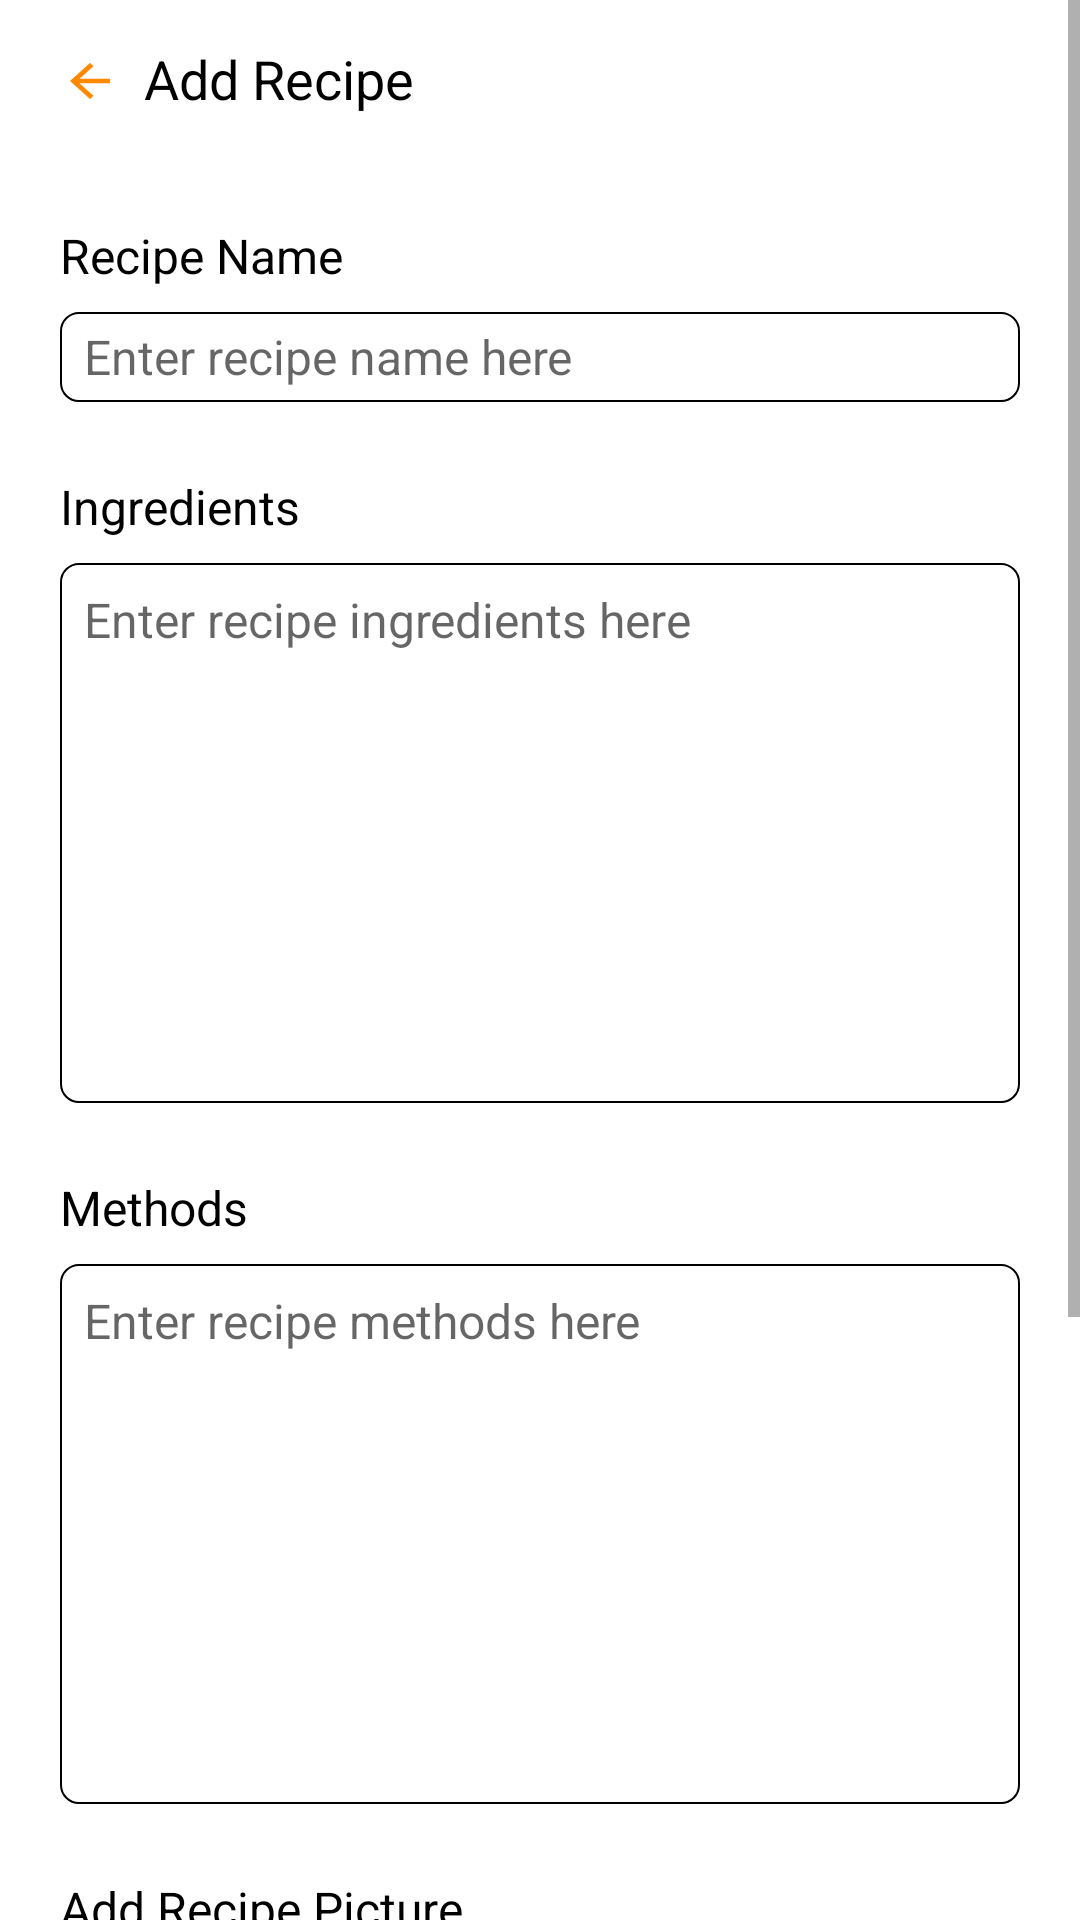

Where to tap for icons on this 1080px x 1920px app screen, as point (x, y):
arrow back: point (90, 81)
